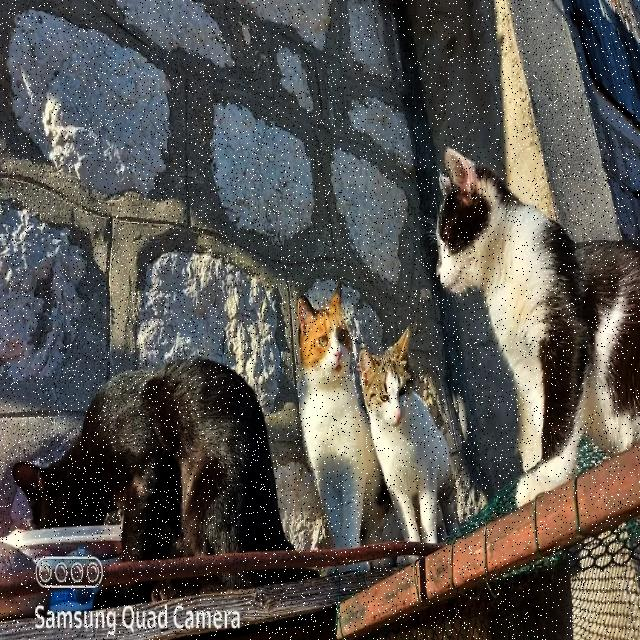cat: (436, 149, 640, 506), (12, 358, 290, 562), (298, 282, 401, 547), (359, 328, 450, 542), (152, 572, 309, 601)
